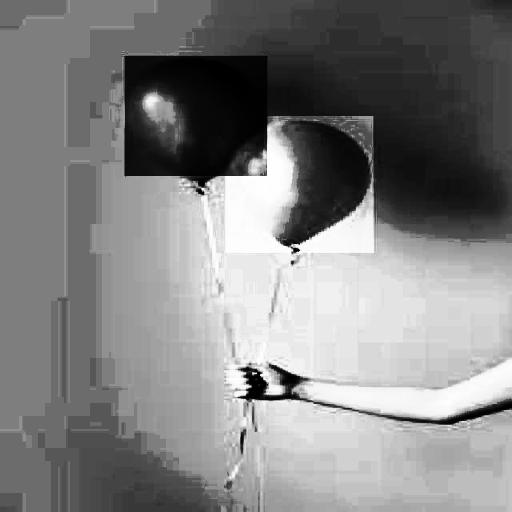balloon: (226, 116, 374, 253), (125, 56, 267, 176)
